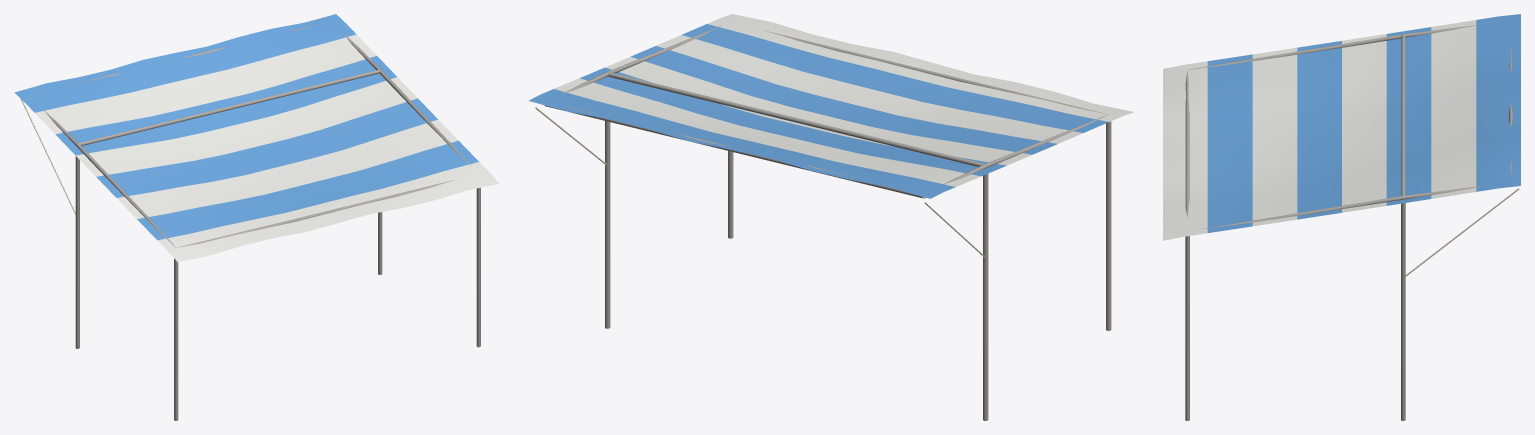
File: carpa_rayas.glb
3 renders of one model, left to right at view 1: azimuth 30°, elevation 25°; view 2: azimuth 150°, elevation 25°; view 3: azimuth 270°, elevation 25°, orthographic. The views are drawn at different scales.
Visible parts, largest first — view 1: carpa_rayas_lona, carpa_rayas_tubos; view 2: carpa_rayas_lona, carpa_rayas_tubos; view 3: carpa_rayas_lona, carpa_rayas_tubos.
Boxes of the visible parts, box(x1,y1,x2,y2) form: carpa_rayas_lona: box(14, 14, 499, 262); carpa_rayas_tubos: box(44, 24, 480, 420); carpa_rayas_lona: box(528, 14, 1134, 198); carpa_rayas_tubos: box(544, 26, 1111, 420); carpa_rayas_lona: box(1163, 14, 1520, 240); carpa_rayas_tubos: box(1185, 25, 1512, 420).
Size of the model in its own units: 4.15 by 2.71 by 3.65.
